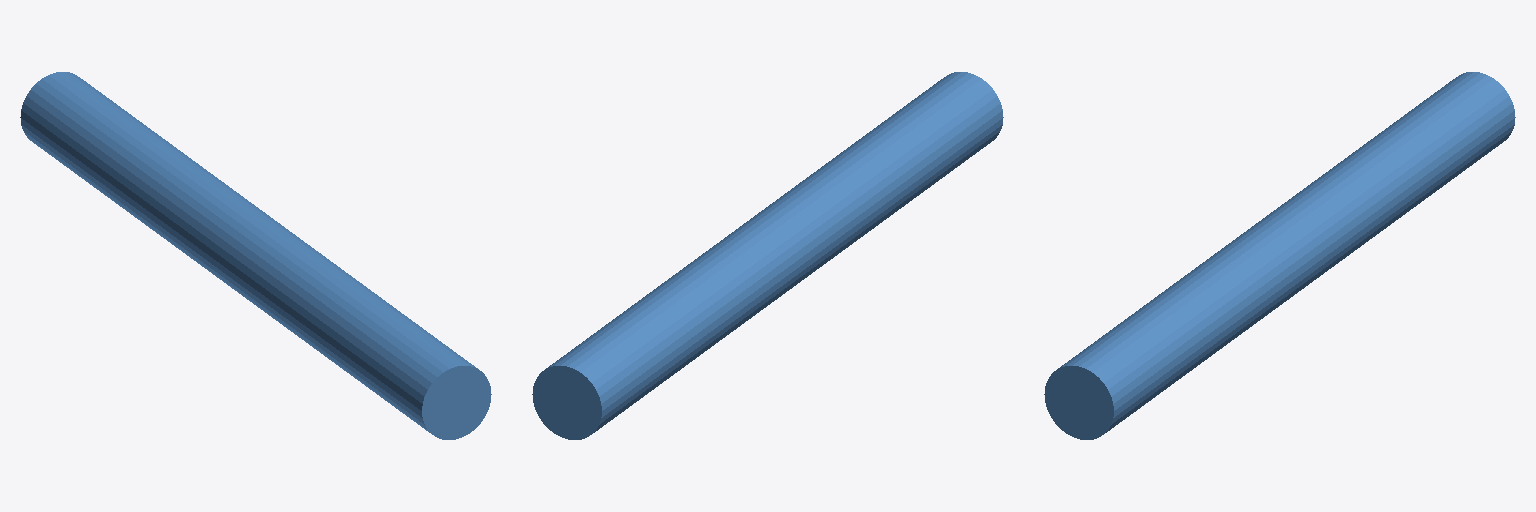
robot.urdf — ur5:
<?xml version="1.0" ?>
<!-- =================================================================================== -->
<!-- |    This document was autogenerated by xacro from ur5_robot.urdf.xacro           | -->
<!-- |    EDITING THIS FILE BY HAND IS NOT RECOMMENDED                                 | -->
<!-- =================================================================================== -->
<robot name="ur5" xmlns:xacro="http://www.ros.org/wiki/xacro">

  <link name="base_link">
    <visual>
      <origin rpy="0 0 0" xyz="0 0 0"/>
      <geometry>
        <mesh filename="package://rvizglabre/modelos/ur5/visual/Base.dae"/>
      </geometry>
    </visual>
    <collision>
      <origin rpy="0 0 0" xyz="0 0 0"/>
      <geometry>
        <mesh filename="package://rvizglabre/modelos/ur5/collision/Base.dae"/>
      </geometry>
    </collision>
    <inertial>
      <mass value="4.0"/>
      <origin xyz="0.0 0.0 0.0"/>
      <inertia ixx="0.00443333156" ixy="0.0" ixz="0.0" iyy="0.00443333156" iyz="0.0" izz="0.0072"/>
    </inertial>
  </link>
  
  <joint name="joint_1" type="revolute">
    <parent link="base_link"/>
    <child link="link_1"/>
    <origin rpy="0.0 0.0 0.0" xyz="0.0 0.0 0.089159"/>
    <axis xyz="0 0 1"/>
    <limit effort="150.0" lower="-6.2831853" upper="6.2831853" velocity="3.15"/>
    <dynamics damping="0.0" friction="0.0"/>
  </joint>
  
  <link name="link_1">
    <visual>
      <origin rpy="0 0 0" xyz="0 0 0"/>
      <geometry>
        <mesh filename="package://rvizglabre/modelos/ur5/visual/Shoulder.dae"/>
      </geometry>
    </visual>
    <collision>
      <origin rpy="0 0 0" xyz="0 0 0"/>
      <geometry>
        <mesh filename="package://rvizglabre/modelos/ur5/collision/Shoulder.dae"/>
      </geometry>
    </collision>
    <inertial>
      <mass value="3.7"/>
      <origin rpy="0 0 0" xyz="0.0 0.0 0.0"/>
      <inertia ixx="0.010267495893" ixy="0.0" ixz="0.0" iyy="0.010267495893" iyz="0.0" izz="0.00666"/>
    </inertial>
  </link>
  
  <joint name="joint_2" type="revolute">
    <parent link="link_1"/>
    <child link="link_2"/>
    <origin rpy="0.0 1.570796325 0.0" xyz="0.0 0.13585 0.0"/>
    <axis xyz="0 1 0"/>
    <limit effort="150.0" lower="-3.24" upper="0.1" velocity="3.15"/>
    <dynamics damping="0.0" friction="0.0"/>
  </joint>
  
  <link name="link_2">
    <visual>
      <origin rpy="0 0 0" xyz="0 0 0"/>
      <geometry>
        <mesh filename="package://rvizglabre/modelos/ur5/visual/UpperArm.dae"/>
      </geometry>
    </visual>
    <collision>
      <origin rpy="0 0 0" xyz="0 0 0"/>
      <geometry>
        <mesh filename="package://rvizglabre/modelos/ur5/collision/UpperArm.dae"/>
      </geometry>
    </collision>
    <inertial>
      <mass value="8.393"/>
      <origin rpy="0 0 0" xyz="0.0 0.0 0.28"/>
      <inertia ixx="0.22689067591" ixy="0.0" ixz="0.0" iyy="0.22689067591" iyz="0.0" izz="0.0151074"/>
    </inertial>
  </link>
  
  <joint name="joint_3" type="revolute">
    <parent link="link_2"/>
    <child link="link_3"/>
    <origin rpy="0.0 0.0 0.0" xyz="0.0 -0.1197 0.425"/>
    <axis xyz="0 1 0"/>
    <limit effort="150.0" lower="-6.2831853" upper="6.2831853" velocity="3.15"/>
    <dynamics damping="0.0" friction="0.0"/>
  </joint>
  
  <link name="link_3">
    <visual>
      <origin rpy="0 0 0" xyz="0 0 0"/>
      <geometry>
        <mesh filename="package://rvizglabre/modelos/ur5/visual/Forearm.dae"/>
      </geometry>
    </visual>
    <collision>
      <origin rpy="0 0 0" xyz="0 0 0"/>
      <geometry>
        <mesh filename="package://rvizglabre/modelos/ur5/collision/Forearm.dae"/>
      </geometry>
    </collision>
    <inertial>
      <mass value="2.275"/>
      <origin rpy="0 0 0" xyz="0.0 0.0 0.25"/>
      <inertia ixx="0.049443313556" ixy="0.0" ixz="0.0" iyy="0.049443313556" iyz="0.0" izz="0.004095"/>
    </inertial>
  </link>
  
  <joint name="joint_4" type="revolute">
    <parent link="link_3"/>
    <child link="link_4"/>
    <origin rpy="0.0 1.570796325 0.0" xyz="0.0 0.0 0.39225"/>
    <axis xyz="0 1 0"/>
    <limit effort="28.0" lower="-6.2831853" upper="6.2831853" velocity="3.2"/>
    <dynamics damping="0.0" friction="0.0"/>
  </joint>
  
  <link name="link_4">
    <visual>
      <origin rpy="0 0 0" xyz="0 0 0"/>
      <geometry>
        <mesh filename="package://rvizglabre/modelos/ur5/visual/Wrist1.dae"/>
      </geometry>
    </visual>
    <collision>
      <origin rpy="0 0 0" xyz="0 0 0"/>
      <geometry>
        <mesh filename="package://rvizglabre/modelos/ur5/collision/Wrist1.dae"/>
      </geometry>
    </collision>
    <inertial>
      <mass value="1.219"/>
      <origin rpy="0 0 0" xyz="0.0 0.0 0.0"/>
      <inertia ixx="0.111172755531" ixy="0.0" ixz="0.0" iyy="0.111172755531" iyz="0.0" izz="0.21942"/>
    </inertial>
  </link>
  
  <joint name="joint_5" type="revolute">
    <parent link="link_4"/>
    <child link="link_5"/>
    <origin rpy="0.0 0.0 0.0" xyz="0.0 0.093 0.0"/>
    <axis xyz="0 0 1"/>
    <limit effort="28.0" lower="-6.2831853" upper="6.2831853" velocity="3.2"/>
    <dynamics damping="0.0" friction="0.0"/>
  </joint>
  
  <link name="link_5">
    <visual>
      <origin rpy="0 0 0" xyz="0 0 0"/>
      <geometry>
        <mesh filename="package://rvizglabre/modelos/ur5/visual/Wrist2.dae"/>
      </geometry>
    </visual>
    <collision>
      <origin rpy="0 0 0" xyz="0 0 0"/>
      <geometry>
        <mesh filename="package://rvizglabre/modelos/ur5/collision/Wrist2.dae"/>
      </geometry>
    </collision>
    <inertial>
      <mass value="1.219"/>
      <origin rpy="0 0 0" xyz="0.0 0.0 0.0"/>
      <inertia ixx="0.111172755531" ixy="0.0" ixz="0.0" iyy="0.111172755531" iyz="0.0" izz="0.21942"/>
    </inertial>
  </link>
  
  <joint name="joint_6" type="revolute">
    <parent link="link_5"/>
    <child link="link_6"/>
    <origin rpy="0.0 0.0 0.0" xyz="0.0 0.0 0.09465"/>
    <axis xyz="0 1 0"/>
    <limit effort="28.0" lower="-6.2831853" upper="6.2831853" velocity="3.2"/>
    <dynamics damping="0.0" friction="0.0"/>
  </joint>
  
  <link name="link_6">
    <visual>
      <origin rpy="0 0 0" xyz="0 0 0"/>
      <geometry>
        <mesh filename="package://rvizglabre/modelos/ur5/visual/Wrist3.dae"/>
      </geometry>
    </visual>
    <collision>
      <origin rpy="0 0 0" xyz="0 0 0"/>
      <geometry>
        <mesh filename="package://rvizglabre/modelos/ur5/collision/Wrist3.dae"/>
      </geometry>
    </collision>
    <inertial>
      <mass value="0.1879"/>
      <origin rpy="0 0 0" xyz="0.0 0.0 0.0"/>
      <inertia ixx="0.0171364731454" ixy="0.0" ixz="0.0" iyy="0.0171364731454" iyz="0.0" izz="0.033822"/>
    </inertial>
  </link>
  
  <joint name="joint6-tool0" type="fixed">
    <parent link="link_6"/>
    <child link="tool0"/>
    <!--<origin rpy="0.0 0.0 1.570796325" xyz="0.0 0.0823 0.0"/>-->
    <origin rpy="1.570796325 0.0 0.0" xyz="0.0 0.18 0.0"/>
  </joint>
  
  <link name="tool0"> <!-- CHANGED-->
      <visual>
          <origin rpy="0 0 0" xyz="0 0 0"/>
          <geometry>
            <cylinder length="0.2" radius="0.01"/>
          </geometry>
          <material name="Blue">
            <color rgba="0.4 0.6 0.8 1"/>
          </material>
        </visual>
        <collision>
          <origin rpy="0 0 0" xyz="0 0 0"/>
          <geometry>
            <cylinder length="0.2" radius="0.01"/>
          </geometry>
        </collision>
        <inertial>
          <mass value="0.1"/>
          <origin rpy="0 0 0" xyz="0.0 0.0 0.0"/>
          <inertia ixx="1.0" ixy="0.0" ixz="0.0" iyy="1.0" iyz="0.0" izz="1.0"/>
        </inertial>
  </link>
  
</robot>

--- Render facts (derived) ---
Views: 3 orthographic renders of the robot side by side, from view 1: azimuth 30°, elevation 25°; view 2: azimuth 150°, elevation 25°; view 3: azimuth 330°, elevation 25°.
Model ur5 with 8 links and 7 joints (6 revolute, 1 fixed), rooted at base_link, posed every joint at zero.
Visible links, largest first — view 1: tool0; view 2: tool0; view 3: tool0.
Link boxes in pixels (x1,y1,x2,y2): tool0: (20,72,491,439); tool0: (532,72,1003,439); tool0: (1044,72,1515,439).
Bounding box of the posed robot: 0.02 × 0.2 × 0.02 m (x, y, z).
Meshes: 7 distinct files referenced, 0 mesh visuals loaded (none loaded); not drawn: 7 (reference not matched to a file when rendering).